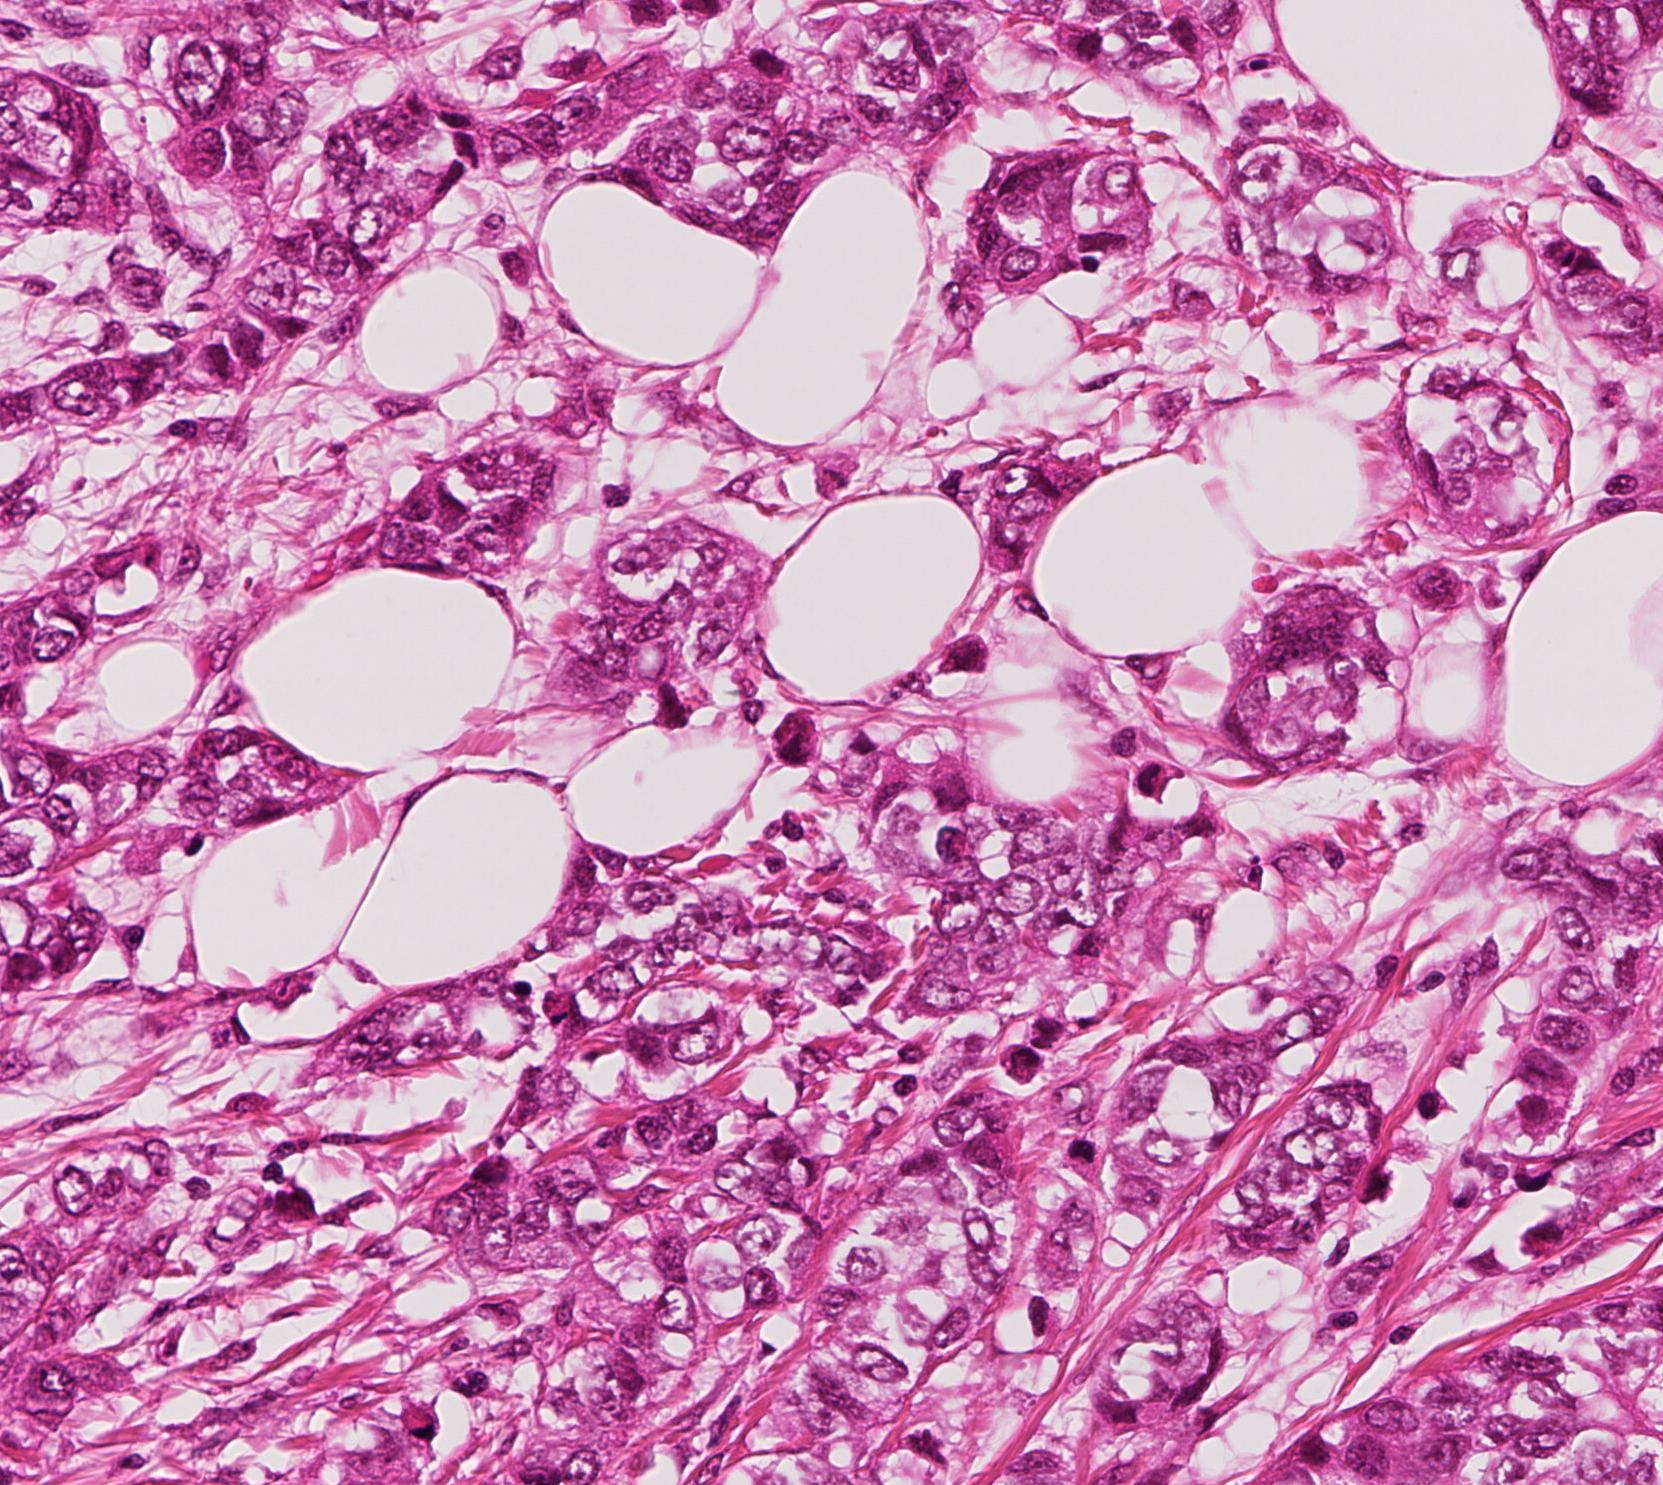mitosis: (1054, 7, 1114, 67)
